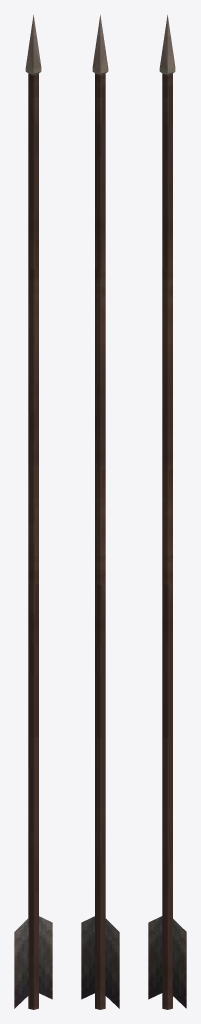
Rendered from field-arrow-quiet.glb.
3 views of the same model, side by side, from view 1: azimuth 30°, elevation 25°; view 2: azimuth 150°, elevation 25°; view 3: azimuth 330°, elevation 25° (orthographic).
Parts seen in each view (by area): view 1: field-arrow-quiet runtime mesh; view 2: field-arrow-quiet runtime mesh; view 3: field-arrow-quiet runtime mesh.
Boxes of the visible parts, x1,y1,x2,y2 form: field-arrow-quiet runtime mesh: (14, 15, 52, 1009); field-arrow-quiet runtime mesh: (81, 15, 119, 1009); field-arrow-quiet runtime mesh: (148, 15, 186, 1009).
Size of the model in its own units: 0.0289 by 0.72 by 0.0103.
Materials: 1 (1 with a texture image).
